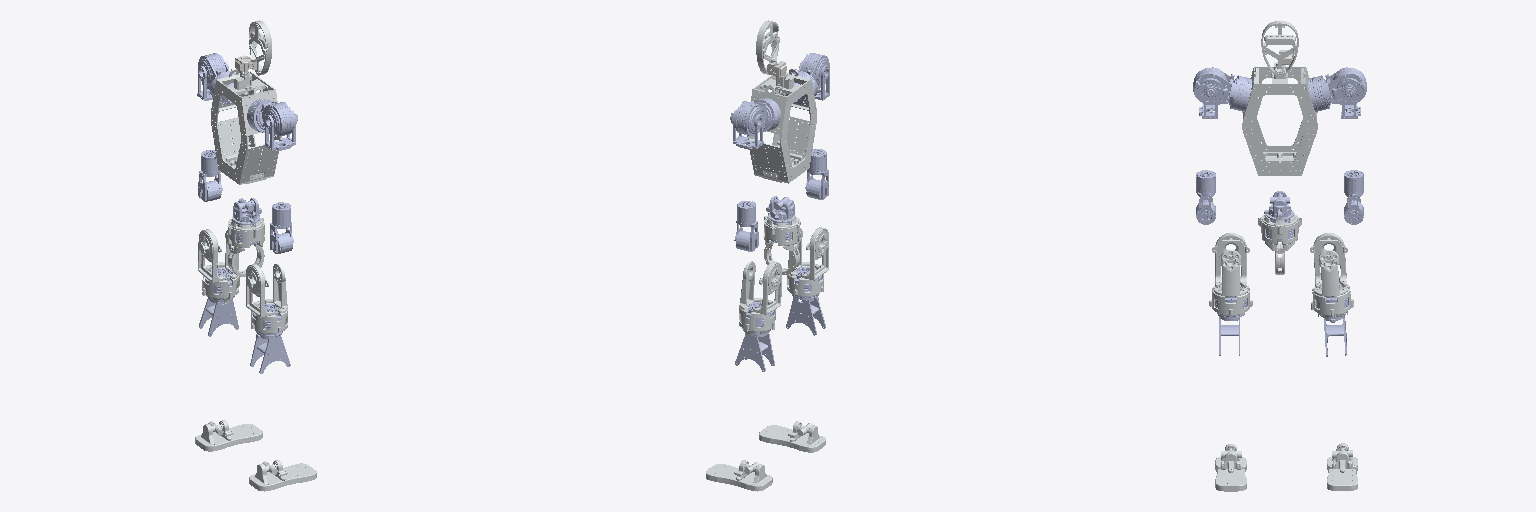
--- Facts derived from the render (not from the file) ---
The picture shows the robot from 3 angles, left to right: view 1: azimuth 30°, elevation 25°; view 2: azimuth 150°, elevation 25°; view 3: azimuth 270°, elevation 25°; orthographic projection.
Model humanoid_pkg with 32 links and 31 joints (24 revolute, 7 fixed), rooted at base_link, posed all joints at 0.
Links seen in each view (by area): view 1: chest_Link, right_hip_pitch_Link, left_hip_pitch_Link, left_foot_Link, right_foot_Link, right_shoulder_roll_Link, right_hip_yaw_Link, base_link, left_hip_yaw_Link, right_wrist_yaw_Link, left_wrist_yaw_Link, head_Link (+3 smaller); view 2: chest_Link, left_hip_pitch_Link, right_hip_pitch_Link, right_foot_Link, left_foot_Link, base_link, left_shoulder_roll_Link, right_hip_yaw_Link, left_hip_yaw_Link, left_wrist_yaw_Link, right_wrist_yaw_Link, right_shoulder_roll_Link (+3 smaller); view 3: chest_Link, left_hip_pitch_Link, right_hip_pitch_Link, right_foot_Link, left_foot_Link, base_link, left_shoulder_roll_Link, right_shoulder_roll_Link, left_wrist_yaw_Link, right_wrist_yaw_Link, right_shoulder_pitch_Link, left_shoulder_pitch_Link (+4 smaller).
Boxes of the visible links, x1,y1,x2,y2 form: chest_Link: (211,69,281,184); right_hip_pitch_Link: (246,264,287,333); left_hip_pitch_Link: (198,229,239,302); left_foot_Link: (195,420,262,451); right_foot_Link: (249,460,316,491); right_shoulder_roll_Link: (265,102,297,150); right_hip_yaw_Link: (250,304,290,373); base_link: (228,214,264,276); left_hip_yaw_Link: (199,268,238,336); right_wrist_yaw_Link: (270,202,293,253); left_wrist_yaw_Link: (198,150,222,201); head_Link: (248,20,271,75); chest_Link: (747,69,816,183); left_hip_pitch_Link: (739,261,781,335); right_hip_pitch_Link: (787,227,828,295); right_foot_Link: (759,421,825,452); left_foot_Link: (706,460,772,491); base_link: (764,212,800,274); left_shoulder_roll_Link: (730,101,763,149); right_hip_yaw_Link: (786,267,825,335); left_hip_yaw_Link: (735,302,774,371); left_wrist_yaw_Link: (734,201,758,251); right_wrist_yaw_Link: (805,149,828,199); right_shoulder_roll_Link: (799,53,829,100); chest_Link: (1242,67,1317,175); left_hip_pitch_Link: (1310,233,1353,317); right_hip_pitch_Link: (1209,233,1252,314); right_foot_Link: (1215,444,1246,491); left_foot_Link: (1327,443,1357,490); base_link: (1258,213,1301,274); left_shoulder_roll_Link: (1332,68,1366,118); right_shoulder_roll_Link: (1193,68,1227,118); left_wrist_yaw_Link: (1344,170,1363,224); right_wrist_yaw_Link: (1196,170,1215,224); right_shoulder_pitch_Link: (1203,67,1251,111); left_shoulder_pitch_Link: (1308,67,1356,111).
Size in the robot's own frame: 0.2068 by 0.4953 by 1.44 metres.
Meshes: 32 distinct files referenced, 19 mesh visuals loaded (19 binary STL); not drawn: 13 (reference not matched to a file when rendering).

URDF robot description (humanoid_pkg):
<?xml version="1.0" encoding="utf-8"?>
<!-- This URDF was automatically created by SolidWorks to URDF Exporter! Originally created by Stephen Brawner ([email redacted]) 
     Commit Version: 1.6.0-4-g7f85cfe  Build Version: 1.6.7995.38578
     For more information, please see http://wiki.ros.org/sw_urdf_exporter -->
<robot
  name="humanoid_pkg">
  <link
    name="base_link">
    <inertial>
      <origin
        xyz="-0.002616 -0.0053305 0.076594"
        rpy="0 0 0" />
      <mass
        value="0.54058" />
      <inertia
        ixx="0.00078596"
        ixy="8.0295E-09"
        ixz="4.0436E-12"
        iyy="0.0011449"
        iyz="-7.5045E-13"
        izz="0.0011059" />
    </inertial>
    <visual>
      <origin
        xyz="0 0 0"
        rpy="0 0 0" />
      <geometry>
        <mesh
          filename="package://humanoid_pkg/meshes/base_link.STL" />
      </geometry>
      <material
        name="">
        <color
          rgba="0.89804 0.91765 0.92941 1" />
      </material>
    </visual>
    <collision>
      <origin
        xyz="0 0 0"
        rpy="0 0 0" />
      <geometry>
        <mesh
          filename="package://humanoid_pkg/meshes/base_link.STL" />
      </geometry>
    </collision>
  </link>
  <link
    name="torso_Link">
    <inertial>
      <origin
        xyz="0.00062749 -0.00020921 0.02276"
        rpy="0 0 0" />
      <mass
        value="1.1981" />
      <inertia
        ixx="0.00051983"
        ixy="5.0679E-10"
        ixz="3.3744E-06"
        iyy="0.0005022"
        iyz="2.8579E-07"
        izz="0.0007539" />
    </inertial>
    <visual>
      <origin
        xyz="0 0 0"
        rpy="0 0 0" />
      <geometry>
        <mesh
          filename="package://humanoid_pkg/meshes/torso_Link.STL" />
      </geometry>
      <material
        name="">
        <color
          rgba="0.79216 0.81961 0.93333 1" />
      </material>
    </visual>
    <collision>
      <origin
        xyz="0 0 0"
        rpy="0 0 0" />
      <geometry>
        <mesh
          filename="package://humanoid_pkg/meshes/torso_Link.STL" />
      </geometry>
    </collision>
  </link>
  <joint
    name="torso_joint"
    type="revolute">
    <origin
      xyz="-0.00261604034721234 -0.00533051126563723 0.134475935268531"
      rpy="0 0 0" />
    <parent
      link="base_link" />
    <child
      link="torso_Link" />
    <axis
      xyz="0 0 1" />
    <limit
      lower="0"
      upper="0"
      effort="0"
      velocity="0" />
  </joint>
  <link
    name="waist_Link">
    <inertial>
      <origin
        xyz="0.0048073 0.0033257 -0.0040705"
        rpy="0 0 0" />
      <mass
        value="1.0735" />
      <inertia
        ixx="0.0010662"
        ixy="-3.8707E-07"
        ixz="-3.9244E-07"
        iyy="0.0011999"
        iyz="-3.7642E-08"
        izz="0.00058977" />
    </inertial>
    <visual>
      <origin
        xyz="0 0 0"
        rpy="0 0 0" />
      <geometry>
        <mesh
          filename="package://humanoid_pkg/meshes/waist_Link.STL" />
      </geometry>
      <material
        name="">
        <color
          rgba="0.89804 0.91765 0.92941 1" />
      </material>
    </visual>
    <collision>
      <origin
        xyz="0 0 0"
        rpy="0 0 0" />
      <geometry>
        <mesh
          filename="package://humanoid_pkg/meshes/waist_Link.STL" />
      </geometry>
    </collision>
  </link>
  <joint
    name="waist_joint"
    type="revolute">
    <origin
      xyz="0 -0.00499999999999296 0.1177"
      rpy="0 0 0" />
    <parent
      link="torso_Link" />
    <child
      link="waist_Link" />
    <axis
      xyz="0 -1 0" />
    <limit
      lower="0"
      upper="0"
      effort="0"
      velocity="0" />
  </joint>
  <link
    name="chest_Link">
    <inertial>
      <origin
        xyz="-0.059002 -4.6806E-06 -0.032819"
        rpy="0 0 0" />
      <mass
        value="1.7205" />
      <inertia
        ixx="0.0090608"
        ixy="-1.7864E-07"
        ixz="-5.4617E-07"
        iyy="0.0073219"
        iyz="6.0203E-08"
        izz="0.0046362" />
    </inertial>
    <visual>
      <origin
        xyz="0 0 0"
        rpy="0 0 0" />
      <geometry>
        <mesh
          filename="package://humanoid_pkg/meshes/chest_Link.STL" />
      </geometry>
      <material
        name="">
        <color
          rgba="0.89804 0.91765 0.92941 1" />
      </material>
    </visual>
    <collision>
      <origin
        xyz="0 0 0"
        rpy="0 0 0" />
      <geometry>
        <mesh
          filename="package://humanoid_pkg/meshes/chest_Link.STL" />
      </geometry>
    </collision>
  </link>
  <joint
    name="chest_joint"
    type="fixed">
    <origin
      xyz="0.0589999999999597 0.00499879796810167 0.198863551720086"
      rpy="0 0 0" />
    <parent
      link="waist_Link" />
    <child
      link="chest_Link" />
    <axis
      xyz="0 0 0" />
  </joint>
  <link
    name="left_shoulder_pitch_Link">
    <inertial>
      <origin
        xyz="0.00031467 -0.0041125 -0.0009434"
        rpy="0 0 0" />
      <mass
        value="0.55787" />
      <inertia
        ixx="0.00046536"
        ixy="-2.4876E-08"
        ixz="2.6512E-07"
        iyy="0.00054598"
        iyz="6.1625E-05"
        izz="0.00033254" />
    </inertial>
    <visual>
      <origin
        xyz="0 0 0"
        rpy="0 0 0" />
      <geometry>
        <mesh
          filename="package://humanoid_pkg/meshes/left_shoulder_pitch_Link.STL" />
      </geometry>
      <material
        name="">
        <color
          rgba="0.79216 0.81961 0.93333 1" />
      </material>
    </visual>
    <collision>
      <origin
        xyz="0 0 0"
        rpy="0 0 0" />
      <geometry>
        <mesh
          filename="package://humanoid_pkg/meshes/left_shoulder_pitch_Link.STL" />
      </geometry>
    </collision>
  </link>
  <joint
    name="left_shoulder_pitch_joint"
    type="revolute">
    <origin
      xyz="-0.0589999999999941 0.133920443430172 0.0867417663212657"
      rpy="0 0 0" />
    <parent
      link="chest_Link" />
    <child
      link="left_shoulder_pitch_Link" />
    <axis
      xyz="0 0.965925826289068 0.258819045102522" />
    <limit
      lower="0"
      upper="0"
      effort="0"
      velocity="0" />
  </joint>
  <link
    name="left_shoulder_roll_Link">
    <inertial>
      <origin
        xyz="-0.019316 0.00045538 -0.0075538"
        rpy="0 0 0" />
      <mass
        value="0.48965" />
      <inertia
        ixx="0.00052874"
        ixy="1.5282E-06"
        ixz="2.6093E-07"
        iyy="0.00033494"
        iyz="-1.2208E-05"
        izz="0.00033875" />
    </inertial>
    <visual>
      <origin
        xyz="0 0 0"
        rpy="0 0 0" />
      <geometry>
        <mesh
          filename="package://humanoid_pkg/meshes/left_shoulder_roll_Link.STL" />
      </geometry>
      <material
        name="">
        <color
          rgba="0.79216 0.81961 0.93333 1" />
      </material>
    </visual>
    <collision>
      <origin
        xyz="0 0 0"
        rpy="0 0 0" />
      <geometry>
        <mesh
          filename="package://humanoid_pkg/meshes/left_shoulder_roll_Link.STL" />
      </geometry>
    </collision>
  </link>
  <joint
    name="left_shoulder_roll_joint"
    type="revolute">
    <origin
      xyz="0.0196500000000192 0.0647170303613817 0.0173408760218703"
      rpy="0 0 0" />
    <parent
      link="left_shoulder_pitch_Link" />
    <child
      link="left_shoulder_roll_Link" />
    <axis
      xyz="-1 0 0" />
    <limit
      lower="0"
      upper="0"
      effort="0"
      velocity="0" />
  </joint>
  <link
    name="left_elbow_yaw_Link">
    <inertial>
      <origin
        xyz="3.389E-05 -0.0037073 0.00016863"
        rpy="0 0 0" />
      <mass
        value="0.24344" />
      <inertia
        ixx="9.1765E-05"
        ixy="-1.8509E-08"
        ixz="-5.5968E-08"
        iyy="9.535E-05"
        iyz="-4.6348E-07"
        izz="8.437E-05" />
    </inertial>
    <visual>
      <origin
        xyz="0 0 0"
        rpy="0 0 0" />
      <geometry>
        <mesh
          filename="package://humanoid_pkg/meshes/left_elbow_yaw_Link.STL" />
      </geometry>
      <material
        name="">
        <color
          rgba="0.79216 0.81961 0.93333 1" />
      </material>
    </visual>
    <collision>
      <origin
        xyz="0 0 0"
        rpy="0 0 0" />
      <geometry>
        <mesh
          filename="package://humanoid_pkg/meshes/left_elbow_yaw_Link.STL" />
      </geometry>
    </collision>
  </link>
  <joint
    name="left_elbow_yaw_joint"
    type="revolute">
    <origin
      xyz="-0.0196500000008165 0.0126821332100065 -0.140580365488154"
      rpy="0 0 -0.000325211137676522" />
    <parent
      link="left_shoulder_roll_Link" />
    <child
      link="left_elbow_yaw_Link" />
    <axis
      xyz="0 0 1" />
    <limit
      lower="0"
      upper="0"
      effort="0"
      velocity="0" />
  </joint>
  <link
    name="left_elbow_forearm_yaw_Link">
    <inertial>
      <origin
        xyz="4.0886E-05 -0.026352 -0.013654"
        rpy="0 0 0" />
      <mass
        value="0.20469" />
      <inertia
        ixx="8.4119E-05"
        ixy="5.7255E-08"
        ixz="-1.8341E-08"
        iyy="8.0815E-05"
        iyz="1.478E-07"
        izz="6.5937E-05" />
    </inertial>
    <visual>
      <origin
        xyz="0 0 0"
        rpy="0 0 0" />
      <geometry>
        <mesh
          filename="package://humanoid_pkg/meshes/left_elbow_forearm_yaw_Link.STL" />
      </geometry>
      <material
        name="">
        <color
          rgba="0.79216 0.81961 0.93333 1" />
      </material>
    </visual>
    <collision>
      <origin
        xyz="0 0 0"
        rpy="0 0 0" />
      <geometry>
        <mesh
          filename="package://humanoid_pkg/meshes/left_elbow_forearm_yaw_Link.STL" />
      </geometry>
    </collision>
  </link>
  <joint
    name="left_elbow_forearm_yaw_joint"
    type="revolute">
    <origin
      xyz="0 0.026500000000004 -0.0682500000000194"
      rpy="0 0 0" />
    <parent
      link="left_elbow_yaw_Link" />
    <child
      link="left_elbow_forearm_yaw_Link" />
    <axis
      xyz="0 -1 0" />
    <limit
      lower="0"
      upper="0"
      effort="0"
      velocity="0" />
  </joint>
  <link
    name="left_wrist_yaw_Link">
    <inertial>
      <origin
        xyz="-0.0022153 -0.00030373 -0.017432"
        rpy="0 0 0" />
      <mass
        value="0.3165" />
      <inertia
        ixx="0.00013143"
        ixy="3.0794E-08"
        ixz="4.312E-07"
        iyy="0.0001122"
        iyz="-3.0606E-08"
        izz="0.00010375" />
    </inertial>
    <visual>
      <origin
        xyz="0 0 0"
        rpy="0 0 0" />
      <geometry>
        <mesh
          filename="package://humanoid_pkg/meshes/left_wrist_yaw_Link.STL" />
      </geometry>
      <material
        name="">
        <color
          rgba="0.79216 0.81961 0.93333 1" />
      </material>
    </visual>
    <collision>
      <origin
        xyz="0 0 0"
        rpy="0 0 0" />
      <geometry>
        <mesh
          filename="package://humanoid_pkg/meshes/left_wrist_yaw_Link.STL" />
      </geometry>
    </collision>
  </link>
  <joint
    name="left_wrist_yaw_joint"
    type="revolute">
    <origin
      xyz="2.72119635786744E-05 -0.0261962529456502 -0.12349999999999"
      rpy="0 0 0" />
    <parent
      link="left_elbow_forearm_yaw_Link" />
    <child
      link="left_wrist_yaw_Link" />
    <axis
      xyz="0 0 -1" />
    <limit
      lower="0"
      upper="0"
      effort="0"
      velocity="0" />
  </joint>
  <link
    name="right_shoulder_pitch_Link">
    <inertial>
      <origin
        xyz="0.00031467 0.0086652 -0.0021119"
        rpy="0 0 0" />
      <mass
        value="0.55787" />
      <inertia
        ixx="0.00046536"
        ixy="2.4609E-08"
        ixz="2.6413E-07"
        iyy="0.00054599"
        iyz="-6.1605E-05"
        izz="0.00033253" />
    </inertial>
    <visual>
      <origin
        xyz="0 0 0"
        rpy="0 0 0" />
      <geometry>
        <mesh
          filename="package://humanoid_pkg/meshes/right_shoulder_pitch_Link.STL" />
      </geometry>
      <material
        name="">
        <color
          rgba="0.79216 0.81961 0.93333 1" />
      </material>
    </visual>
    <collision>
      <origin
        xyz="0 0 0"
        rpy="0 0 0" />
      <geometry>
        <mesh
          filename="package://humanoid_pkg/meshes/right_shoulder_pitch_Link.STL" />
      </geometry>
    </collision>
  </link>
  <joint
    name="right_shoulder_pitch_joint"
    type="revolute">
    <origin
      xyz="-0.0589999999999747 -0.138457890749933 0.0879582158332528"
      rpy="0 0 0" />
    <parent
      link="chest_Link" />
    <child
      link="right_shoulder_pitch_Link" />
    <axis
      xyz="0 -0.965925826289067 0.258819045102526" />
    <limit
      lower="0"
      upper="0"
      effort="0"
      velocity="0" />
  </joint>
  <link
    name="right_shoulder_roll_Link">
    <inertial>
      <origin
        xyz="-0.019338 -0.00043324 -0.007383"
        rpy="0 0 0" />
      <mass
        value="0.48888" />
      <inertia
        ixx="0.00052841"
        ixy="-1.5939E-06"
        ixz="2.8547E-07"
        iyy="0.00033462"
        iyz="1.2209E-05"
        izz="0.00033811" />
    </inertial>
    <visual>
      <origin
        xyz="0 0 0"
        rpy="0 0 0" />
      <geometry>
        <mesh
          filename="package://humanoid_pkg/meshes/right_shoulder_roll_Link.STL" />
      </geometry>
      <material
        name="">
        <color
          rgba="0.79216 0.81961 0.93333 1" />
      </material>
    </visual>
    <collision>
      <origin
        xyz="0 0 0"
        rpy="0 0 0" />
      <geometry>
        <mesh
          filename="package://humanoid_pkg/meshes/right_shoulder_roll_Link.STL" />
      </geometry>
    </collision>
  </link>
  <joint
    name="right_shoulder_roll_joint"
    type="revolute">
    <origin
      xyz="0.0196499999999965 -0.0601771789778188 0.0161244265098969"
      rpy="0 0 0" />
    <parent
      link="right_shoulder_pitch_Link" />
    <child
      link="right_shoulder_roll_Link" />
    <axis
      xyz="-1 0 0" />
    <limit
      lower="0"
      upper="0"
      effort="0"
      velocity="0" />
  </joint>
  <link
    name="right_elbow_yaw_Link">
    <inertial>
      <origin
        xyz="-4.3563E-07 0.0037417 0.00016863"
        rpy="0 0 0" />
      <mass
        value="0.24344" />
      <inertia
        ixx="9.1717E-05"
        ixy="1.8529E-08"
        ixz="2.6213E-09"
        iyy="9.5398E-05"
        iyz="4.048E-07"
        izz="8.437E-05" />
    </inertial>
    <visual>
      <origin
        xyz="0 0 0"
        rpy="0 0 0" />
      <geometry>
        <mesh
          filename="package://humanoid_pkg/meshes/right_elbow_yaw_Link.STL" />
      </geometry>
      <material
        name="">
        <color
          rgba="0.79216 0.81961 0.93333 1" />
      </material>
    </visual>
    <collision>
      <origin
        xyz="0 0 0"
        rpy="0 0 0" />
      <geometry>
        <mesh
          filename="package://humanoid_pkg/meshes/right_elbow_yaw_Link.STL" />
      </geometry>
    </collision>
  </link>
  <joint
    name="right_elbow_yaw_joint"
    type="revolute">
    <origin
      xyz="-0.0196499999999985 -0.0126821332108248 -0.140580365488174"
      rpy="0 0 0" />
    <parent
      link="right_shoulder_roll_Link" />
    <child
      link="right_elbow_yaw_Link" />
    <axis
      xyz="0 0 1" />
    <limit
      lower="0"
      upper="0"
      effort="0"
      velocity="0" />
  </joint>
  <link
    name="right_elbow_forearm_yaw_Link">
    <inertial>
      <origin
        xyz="-0.00034522 -0.028398 -0.013635"
        rpy="0 0 0" />
      <mass
        value="0.20469" />
      <inertia
        ixx="8.4119E-05"
        ixy="5.7255E-08"
        ixz="1.8341E-08"
        iyy="8.0815E-05"
        iyz="-1.478E-07"
        izz="6.5937E-05" />
    </inertial>
    <visual>
      <origin
        xyz="0 0 0"
        rpy="0 0 0" />
      <geometry>
        <mesh
          filename="package://humanoid_pkg/meshes/right_elbow_forearm_yaw_Link.STL" />
      </geometry>
      <material
        name="">
        <color
          rgba="0.79216 0.81961 0.93333 1" />
      </material>
    </visual>
    <collision>
      <origin
        xyz="0 0 0"
        rpy="0 0 0" />
      <geometry>
        <mesh
          filename="package://humanoid_pkg/meshes/right_elbow_forearm_yaw_Link.STL" />
      </geometry>
    </collision>
  </link>
  <joint
    name="right_elbow_forearm_yaw_joint"
    type="revolute">
    <origin
      xyz="0.000304330674491246 0.0282500000008096 -0.068269636815096"
      rpy="0 0 0" />
    <parent
      link="right_elbow_yaw_Link" />
    <child
      link="right_elbow_forearm_yaw_Link" />
    <axis
      xyz="0 1 0" />
    <limit
      lower="0"
      upper="0"
      effort="0"
      velocity="0" />
  </joint>
  <link
    name="right_wrist_yaw_Link">
    <inertial>
      <origin
        xyz="-0.0019393 0.00024629 -0.017432"
        rpy="0 0 0" />
      <mass
        value="0.3165" />
      <inertia
        ixx="0.00013144"
        ixy="6.582E-08"
        ixz="4.7674E-07"
        iyy="0.00011219"
        iyz="6.2895E-08"
        izz="0.00010375" />
    </inertial>
    <visual>
      <origin
        xyz="0 0 0"
        rpy="0 0 0" />
      <geometry>
        <mesh
          filename="package://humanoid_pkg/meshes/right_wrist_yaw_Link.STL" />
      </geometry>
      <material
        name="">
        <color
          rgba="0.79216 0.81961 0.93333 1" />
      </material>
    </visual>
    <collision>
      <origin
        xyz="0 0 0"
        rpy="0 0 0" />
      <geometry>
        <mesh
          filename="package://humanoid_pkg/meshes/right_wrist_yaw_Link.STL" />
      </geometry>
    </collision>
  </link>
  <joint
    name="right_wrist_yaw_joint"
    type="revolute">
    <origin
      xyz="-0.000533410283256361 -0.0284513089585393 -0.123480363184904"
      rpy="0 0 0" />
    <parent
      link="right_elbow_forearm_yaw_Link" />
    <child
      link="right_wrist_yaw_Link" />
    <axis
      xyz="0 0 -1" />
    <limit
      lower="0"
      upper="0"
      effort="0"
      velocity="0" />
  </joint>
  <link
    name="neck_Link">
    <inertial>
      <origin
        xyz="-0.0065711 1.1221E-07 -0.024709"
        rpy="0 0 0" />
      <mass
        value="0.057826" />
      <inertia
        ixx="1.273E-05"
        ixy="5.486E-11"
        ixz="-2.4607E-07"
        iyy="1.3612E-05"
        iyz="-4.3063E-11"
        izz="1.4071E-05" />
    </inertial>
    <visual>
      <origin
        xyz="0 0 0"
        rpy="0 0 0" />
      <geometry>
        <mesh
          filename="package://humanoid_pkg/meshes/neck_Link.STL" />
      </geometry>
      <material
        name="">
        <color
          rgba="0.89804 0.91765 0.92941 1" />
      </material>
    </visual>
    <collision>
      <origin
        xyz="0 0 0"
        rpy="0 0 0" />
      <geometry>
        <mesh
          filename="package://humanoid_pkg/meshes/neck_Link.STL" />
      </geometry>
    </collision>
  </link>
  <joint
    name="neck_joint"
    type="fixed">
    <origin
      xyz="-0.0589999999999757 0 0.172550670854567"
      rpy="0 0 0" />
    <parent
      link="chest_Link" />
    <child
      link="neck_Link" />
    <axis
      xyz="0 0 0" />
  </joint>
  <link
    name="neck_yaw_Link">
    <inertial>
      <origin
        xyz="0.0026021 0.017715 0.019315"
        rpy="0 0 0" />
      <mass
        value="0.084323" />
      <inertia
        ixx="2.4885E-05"
        ixy="1.1417E-06"
        ixz="1.0184E-07"
        iyy="2.2161E-05"
        iyz="-3.6443E-06"
        izz="1.932E-05" />
    </inertial>
    <visual>
      <origin
        xyz="0 0 0"
        rpy="0 0 0" />
      <geometry>
        <mesh
          filename="package://humanoid_pkg/meshes/neck_yaw_Link.STL" />
      </geometry>
      <material
        name="">
        <color
          rgba="0.89804 0.89804 0.89804 1" />
      </material>
    </visual>
    <collision>
      <origin
        xyz="0 0 0"
        rpy="0 0 0" />
      <geometry>
        <mesh
          filename="package://humanoid_pkg/meshes/neck_yaw_Link.STL" />
      </geometry>
    </collision>
  </link>
  <joint
    name="neck_yaw_joint"
    type="revolute">
    <origin
      xyz="0 0 0"
      rpy="0 0 0" />
    <parent
      link="neck_Link" />
    <child
      link="neck_yaw_Link" />
    <axis
      xyz="0 0 1" />
    <limit
      lower="0"
      upper="0"
      effort="0"
      velocity="0" />
  </joint>
  <link
    name="head_Link">
    <inertial>
      <origin
        xyz="0.027551 -0.0041209 0.046161"
        rpy="0 0 0" />
      <mass
        value="0.18871" />
      <inertia
        ixx="0.00064097"
        ixy="4.7808E-07"
        ixz="-1.3992E-06"
        iyy="0.00045607"
        iyz="-1.8574E-06"
        izz="0.00019729" />
    </inertial>
    <visual>
      <origin
        xyz="0 0 0"
        rpy="0 0 0" />
      <geometry>
        <mesh
          filename="package://humanoid_pkg/meshes/head_Link.STL" />
      </geometry>
      <material
        name="">
        <color
          rgba="0.89804 0.91765 0.92941 1" />
      </material>
    </visual>
    <collision>
      <origin
        xyz="0 0 0"
        rpy="0 0 0" />
      <geometry>
        <mesh
          filename="package://humanoid_pkg/meshes/head_Link.STL" />
      </geometry>
    </collision>
  </link>
  <joint
    name="head_joint"
    type="revolute">
    <origin
      xyz="0.0176150000000058 0.00449999999987008 0.0230050000000284"
      rpy="0 0 0" />
    <parent
      link="neck_yaw_Link" />
    <child
      link="head_Link" />
    <axis
      xyz="0 1 0" />
    <limit
      lower="0"
      upper="0"
      effort="0"
      velocity="0" />
  </joint>
  <link
    name="camera_Link">
    <inertial>
      <origin
        xyz="-0.012444 1.1266E-05 -0.00013611"
        rpy="0 0 0" />
      <mass
        value="0.10791" />
      <inertia
        ixx="7.1255E-05"
        ixy="-1.7847E-08"
        ixz="4.9298E-08"
        iyy="7.71E-06"
        iyz="2.4825E-10"
        izz="7.0257E-05" />
    </inertial>
    <visual>
      <origin
        xyz="0 0 0"
        rpy="0 0 0" />
      <geometry>
        <mesh
          filename="package://humanoid_pkg/meshes/camera_Link.STL" />
      </geometry>
      <material
        name="">
        <color
          rgba="0.89804 0.91765 0.92941 1" />
      </material>
    </visual>
    <collision>
      <origin
        xyz="0 0 0"
        rpy="0 0 0" />
      <geometry>
        <mesh
          filename="package://humanoid_pkg/meshes/camera_Link.STL" />
      </geometry>
    </collision>
  </link>
  <joint
    name="camera_joint"
    type="fixed">
    <origin
      xyz="0.0453850000000015 -0.00450000000000009 0.0774061362008152"
      rpy="0 0 0" />
    <parent
      link="head_Link" />
    <child
      link="camera_Link" />
    <axis
      xyz="0 0 0" />
  </joint>
  <link
    name="right_hip_roll_Link">
    <inertial>
      <origin
        xyz="-0.027888 0.04083 0.00056004"
        rpy="0 0 0" />
      <mass
        value="1.5469" />
      <inertia
        ixx="0.0028797"
        ixy="-5.658E-05"
        ixz="1.1722E-05"
        iyy="0.00207"
        iyz="2.0467E-05"
        izz="0.0019812" />
    </inertial>
    <visual>
      <origin
        xyz="0 0 0"
        rpy="0 0 0" />
      <geometry>
        <mesh
          filename="package://humanoid_pkg/meshes/right_hip_roll_Link.STL" />
      </geometry>
      <material
        name="">
        <color
          rgba="0.79216 0.81961 0.93333 1" />
      </material>
    </visual>
    <collision>
      <origin
        xyz="0 0 0"
        rpy="0 0 0" />
      <geometry>
        <mesh
          filename="package://humanoid_pkg/meshes/right_hip_roll_Link.STL" />
      </geometry>
    </collision>
  </link>
  <joint
    name="right_hip_roll_joint"
    type="revolute">
    <origin
      xyz="0.0175839596527876 -0.14533051126563 0.0221759352685313"
      rpy="0 0 0" />
    <parent
      link="base_link" />
    <child
      link="right_hip_roll_Link" />
    <axis
      xyz="0 1 0" />
    <limit
      lower="0"
      upper="0"
      effort="0"
      velocity="0" />
  </joint>
  <link
    name="right_hip_pitch_Link">
    <inertial>
      <origin
        xyz="-0.032145 -3.7396E-06 -0.063538"
        rpy="0 0 0" />
      <mass
        value="0.7444" />
      <inertia
        ixx="0.0015527"
        ixy="1.5592E-08"
        ixz="4.0115E-05"
        iyy="0.001194"
        iyz="9.2713E-10"
        izz="0.0009379" />
    </inertial>
    <visual>
      <origin
        xyz="0 0 0"
        rpy="0 0 0" />
      <geometry>
        <mesh
          filename="package://humanoid_pkg/meshes/right_hip_pitch_Link.STL" />
      </geometry>
      <material
        name="">
        <color
          rgba="0.89804 0.91765 0.92941 1" />
      </material>
    </visual>
    <collision>
      <origin
        xyz="0 0 0"
        rpy="0 0 0" />
      <geometry>
        <mesh
          filename="package://humanoid_pkg/meshes/right_hip_pitch_Link.STL" />
      </geometry>
    </collision>
  </link>
  <joint
    name="right_hip_pitch_ joint"
    type="revolute">
    <origin
      xyz="0 0 0"
      rpy="0 0 0" />
    <parent
      link="right_hip_roll_Link" />
    <child
      link="right_hip_pitch_Link" />
    <axis
      xyz="-1 0 0" />
    <limit
      lower="0"
      upper="0"
      effort="0"
      velocity="0" />
  </joint>
  <link
    name="right_hip_yaw_Link">
    <inertial>
      <origin
        xyz="-2.7827E-05 -0.0016262 -0.02388"
        rpy="0 0 0" />
      <mass
        value="1.0856" />
      <inertia
        ixx="0.00071265"
        ixy="1.0046E-07"
        ixz="-1.2697E-07"
        iyy="0.0010508"
        iyz="-1.2277E-06"
        izz="0.00085679" />
    </inertial>
    <visual>
      <origin
        xyz="0 0 0"
        rpy="0 0 0" />
      <geometry>
        <mesh
          filename="package://humanoid_pkg/meshes/right_hip_yaw_Link.STL" />
      </geometry>
      <material
        name="">
        <color
          rgba="0.79216 0.81961 0.93333 1" />
      </material>
    </visual>
    <collision>
      <origin
        xyz="0 0 0"
        rpy="0 0 0" />
      <geometry>
        <mesh
          filename="package://humanoid_pkg/meshes/right_hip_yaw_Link.STL" />
      </geometry>
    </collision>
  </link>
  <joint
    name="right_hip_yaw_joint"
    type="revolute">
    <origin
      xyz="-0.0202000000000037 0 -0.1757"
      rpy="0 0 0" />
    <parent
      link="right_hip_pitch_Link" />
    <child
      link="right_hip_yaw_Link" />
    <axis
      xyz="0 0 -1" />
    <limit
      lower="0"
      upper="0"
      effort="0"
      velocity="0" />
  </joint>
  <link
    name="right_knee_Link">
    <inertial>
      <origin
        xyz="-0.00014239 0.027532 -0.091601"
        rpy="0 0 0" />
      <mass
        value="1.5561" />
      <inertia
        ixx="0.0079264"
        ixy="1.1756E-07"
        ixz="1.3859E-07"
        iyy="0.0078415"
        iyz="0.0005933"
        izz="0.0012684" />
    </inertial>
    <visual>
      <origin
        xyz="0 0 0"
        rpy="0 0 0" />
      <geometry>
        <mesh
          filename="package://humanoid_pkg/meshes/right_knee_Link.STL" />
      </geometry>
      <material
        name="">
        <color
          rgba="0.79216 0.81961 0.93333 1" />
      </material>
    </visual>
    <collision>
      <origin
        xyz="0 0 0"
        rpy="0 0 0" />
      <geometry>
        <mesh
          filename="package://humanoid_pkg/meshes/right_knee_Link.STL" />
      </geometry>
    </collision>
  </link>
  <joint
    name="right_knee_joint"
    type="revolute">
    <origin
      xyz="0 -0.0247000000000758 -0.134300000000004"
      rpy="0 0 0" />
    <parent
      link="right_hip_yaw_Link" />
    <child
      link="right_knee_Link" />
    <axis
      xyz="0 1 0" />
    <limit
      lower="0"
      upper="0"
      effort="0"
      velocity="0" />
  </joint>
  <link
    name="right_ankle_upper_Link">
    <inertial>
      <origin
        xyz="-0.0096451 0.0080178 -0.022594"
        rpy="0 0 0" />
      <mass
        value="0.23217" />
      <inertia
        ixx="0.00017223"
        ixy="-4.2567E-10"
        ixz="-2.6524E-09"
        iyy="0.00015319"
        iyz="-5.3556E-06"
        izz="6.3191E-05" />
    </inertial>
    <visual>
      <origin
        xyz="0 0 0"
        rpy="0 0 0" />
      <geometry>
        <mesh
          filename="package://humanoid_pkg/meshes/right_ankle_upper_Link.STL" />
      </geometry>
      <material
        name="">
        <color
          rgba="0.64706 0.61961 0.58824 1" />
      </material>
    </visual>
    <collision>
      <origin
        xyz="0 0 0"
        rpy="0 0 0" />
      <geometry>
        <mesh
          filename="package://humanoid_pkg/meshes/right_ankle_upper_Link.STL" />
      </geometry>
    </collision>
  </link>
  <joint
    name="right_ankle_upper_joint"
    type="fixed">
    <origin
      xyz="0.02975 0.0246999999992695 -0.104999999999998"
      rpy="0 0 0" />
    <parent
      link="right_knee_Link" />
    <child
      link="right_ankle_upper_Link" />
    <axis
      xyz="0 -1 0" />
    <limit
      lower="0"
      upper="0"
      effort="0"
      velocity="0" />
  </joint>
  <link
    name="right_foot_Link">
    <inertial>
      <origin
        xyz="0.0057978 -5.4386E-10 -0.026004"
        rpy="0 0 0" />
      <mass
        value="0.98973" />
      <inertia
        ixx="0.00050114"
        ixy="2.8848E-11"
        ixz="8.7593E-05"
        iyy="0.0023788"
        iyz="-3.5941E-11"
        izz="0.002753" />
    </inertial>
    <visual>
      <origin
        xyz="0 0 0"
        rpy="0 0 0" />
      <geometry>
        <mesh
          filename="package://humanoid_pkg/meshes/right_foot_Link.STL" />
      </geometry>
      <material
        name="">
        <color
          rgba="0.89804 0.91765 0.92941 1" />
      </material>
    </visual>
    <collision>
      <origin
        xyz="0 0 0"
        rpy="0 0 0" />
      <geometry>
        <mesh
          filename="package://humanoid_pkg/meshes/right_foot_Link.STL" />
      </geometry>
    </collision>
  </link>
  <joint
    name="right_foot_joint"
    type="revolute">
    <origin
      xyz="0.0225 0.0247000000000844 -0.3185"
      rpy="0 0 0" />
    <parent
      link="right_knee_Link" />
    <child
      link="right_foot_Link" />
    <axis
      xyz="0 1 0" />
    <limit
      lower="0"
      upper="0"
      effort="0"
      velocity="0" />
  </joint>
  <link
    name="right_ankle_lower_Link">
    <inertial>
      <origin
        xyz="-0.011288 -0.0067146 -0.012411"
        rpy="0 0 0" />
      <mass
        value="0.2189" />
      <inertia
        ixx="0.00010192"
        ixy="5.8479E-08"
        ixz="5.7528E-08"
        iyy="8.2967E-05"
        iyz="1.9458E-06"
        izz="6.2866E-05" />
    </inertial>
    <visual>
      <origin
        xyz="0 0 0"
        rpy="0 0 0" />
      <geometry>
        <mesh
          filename="package://humanoid_pkg/meshes/right_ankle_lower_Link.STL" />
      </geometry>
      <material
        name="">
        <color
          rgba="0.79216 0.81961 0.93333 1" />
      </material>
    </visual>
    <collision>
      <origin
        xyz="0 0 0"
        rpy="0 0 0" />
      <geometry>
        <mesh
          filename="package://humanoid_pkg/meshes/right_ankle_lower_Link.STL" />
      </geometry>
    </collision>
  </link>
  <joint
    name="right_ankle_lower_joint"
    type="fixed">
    <origin
      xyz="0.02975 0.0247000000000751 -0.169500000000809"
      rpy="0 0 0" />
    <parent
      link="right_knee_Link" />
    <child
      link="right_ankle_lower_Link" />
    <axis
      xyz="0 0 0" />
  </joint>
  <link
    name="left_hip_roll_Link">
    <inertial>
      <origin
        xyz="-0.0076949 0.035164 -0.00056716"
        rpy="0 0 0" />
      <mass
        value="1.5469" />
      <inertia
        ixx="0.0028797"
        ixy="5.6863E-05"
        ixz="-1.1728E-05"
        iyy="0.00207"
        iyz="2.0647E-05"
        izz="0.0019812" />
    </inertial>
    <visual>
      <origin
        xyz="0 0 0"
        rpy="0 0 0" />
      <geometry>
        <mesh
          filename="package://humanoid_pkg/meshes/left_hip_roll_Link.STL" />
      </geometry>
      <material
        name="">
        <color
          rgba="0.79216 0.81961 0.93333 1" />
      </material>
    </visual>
    <collision>
      <origin
        xyz="0 0 0"
        rpy="0 0 0" />
      <geometry>
        <mesh
          filename="package://humanoid_pkg/meshes/left_hip_roll_Link.STL" />
      </geometry>
    </collision>
  </link>
  <joint
    name="left_hip_roll_joint"
    type="revolute">
    <origin
      xyz="-0.002616 0.058669 0.022176"
      rpy="0 0 -0.00032521" />
    <parent
      link="base_link" />
    <child
      link="left_hip_roll_Link" />
    <axis
      xyz="0.00032521 -1 0" />
    <limit
      lower="0"
      upper="0"
      effort="0"
      velocity="0" />
  </joint>
  <link
    name="left_hip_pitch_Link">
    <inertial>
      <origin
        xyz="-0.034577 0.0050593 -0.074824"
        rpy="0 0 0" />
      <mass
        value="0.84068" />
      <inertia
        ixx="0.0016535"
        ixy="-2.4768E-06"
        ixz="4.0037E-05"
        iyy="0.0012895"
        iyz="1.107E-05"
        izz="0.0011304" />
    </inertial>
    <visual>
      <origin
        xyz="0 0 0"
        rpy="0 0 0" />
      <geometry>
        <mesh
          filename="package://humanoid_pkg/meshes/left_hip_pitch_Link.STL" />
      </geometry>
      <material
        name="">
        <color
          rgba="0.89804 0.91765 0.92941 1" />
      </material>
    </visual>
    <collision>
      <origin
        xyz="0 0 0"
        rpy="0 0 0" />
      <geometry>
        <mesh
          filename="package://humanoid_pkg/meshes/left_hip_pitch_Link.STL" />
      </geometry>
    </collision>
  </link>
  <joint
    name="left_hip_pitch_joint"
    type="revolute">
    <origin
      xyz="0.0239754058878498 0.0756289609470872 -0.000417044567936287"
      rpy="0 0 0.000325211137678828" />
    <parent
      link="left_hip_roll_Link" />
    <child
      link="left_hip_pitch_Link" />
    <axis
      xyz="-1 0 0" />
    <limit
      lower="0"
      upper="0"
      effort="0"
      velocity="0" />
  </joint>
  <link
    name="left_hip_yaw_Link">
    <inertial>
      <origin
        xyz="5.3998E-05 0.0016007 -0.02388"
        rpy="0 0 0" />
      <mass
        value="1.0856" />
      <inertia
        ixx="0.00071265"
        ixy="1.0046E-07"
        ixz="1.4643E-07"
        iyy="0.0010508"
        iyz="1.2047E-06"
        izz="0.00085679" />
    </inertial>
    <visual>
      <origin
        xyz="0 0 0"
        rpy="0 0 0" />
      <geometry>
        <mesh
          filename="package://humanoid_pkg/meshes/left_hip_yaw_Link.STL" />
      </geometry>
      <material
        name="">
        <color
          rgba="0.79216 0.81961 0.93333 1" />
      </material>
    </visual>
    <collision>
      <origin
        xyz="0 0 0"
        rpy="0 0 0" />
      <geometry>
        <mesh
          filename="package://humanoid_pkg/meshes/left_hip_yaw_Link.STL" />
      </geometry>
    </collision>
  </link>
  <joint
    name="left_hip_yaw_joint"
    type="revolute">
    <origin
      xyz="-0.0240000000000196 0.0112950637310301 -0.174943515599112"
      rpy="0.0621699421431091 0 0" />
    <parent
      link="left_hip_pitch_Link" />
    <child
      link="left_hip_yaw_Link" />
    <axis
      xyz="0 0 -1" />
    <limit
      lower="0"
      upper="0"
      effort="0"
      velocity="0" />
  </joint>
  <link
    name="left_knee_Link">
    <inertial>
      <origin
        xyz="-0.00055538 -0.03133 -0.091968"
        rpy="0 0 0" />
      <mass
        value="1.5559" />
      <inertia
        ixx="0.0079262"
        ixy="-1.1425E-07"
        ixz="4.423E-08"
        iyy="0.0078413"
        iyz="-0.00059325"
        izz="0.0012684" />
    </inertial>
    <visual>
      <origin
        xyz="0 0 0"
        rpy="0 0 0" />
      <geometry>
        <mesh
          filename="package://humanoid_pkg/meshes/left_knee_Link.STL" />
      </geometry>
      <material
        name="">
        <color
          rgba="0.89804 0.91765 0.92941 1" />
      </material>
    </visual>
    <collision>
      <origin
        xyz="0 0 0"
        rpy="0 0 0" />
      <geometry>
        <mesh
          filename="package://humanoid_pkg/meshes/left_knee_Link.STL" />
      </geometry>
    </collision>
  </link>
  <joint
    name="left_knee_joint"
    type="revolute">
    <origin
      xyz="0.000417044567958422 0.0285000000000827 -0.133921159878857"
      rpy="0 0 0" />
    <parent
      link="left_hip_yaw_Link" />
    <child
      link="left_knee_Link" />
    <axis
      xyz="0 -1 0" />
    <limit
      lower="0"
      upper="0"
      effort="0"
      velocity="0" />
  </joint>
  <link
    name="left_ankle_upper_Link">
    <inertial>
      <origin
        xyz="-0.0096451 -0.0066648 -0.02296"
        rpy="0 0 0" />
      <mass
        value="0.23217" />
      <inertia
        ixx="0.00017223"
        ixy="5.4885E-08"
        ixz="5.9266E-08"
        iyy="0.00015222"
        iyz="1.0516E-05"
        izz="6.416E-05" />
    </inertial>
    <visual>
      <origin
        xyz="0 0 0"
        rpy="0 0 0" />
      <geometry>
        <mesh
          filename="package://humanoid_pkg/meshes/left_ankle_upper_Link.STL" />
      </geometry>
      <material
        name="">
        <color
          rgba="0.79216 0.81961 0.93333 1" />
      </material>
    </visual>
    <collision>
      <origin
        xyz="0 0 0"
        rpy="0 0 0" />
      <geometry>
        <mesh
          filename="package://humanoid_pkg/meshes/left_ankle_upper_Link.STL" />
      </geometry>
    </collision>
  </link>
  <joint
    name="left_ankle_upper_joint"
    type="fixed">
    <origin
      xyz="0.0293329554320634 -0.0285000038462455 -0.105378840121952"
      rpy="-0.0621699421431091 0 0" />
    <parent
      link="left_knee_Link" />
    <child
      link="left_ankle_upper_Link" />
    <axis
      xyz="0 -1 0" />
    <limit
      lower="0"
      upper="0"
      effort="0"
      velocity="0" />
  </joint>
  <link
    name="left_ankle_lower_Link">
    <inertial>
      <origin
        xyz="-0.011288 0.0073636 -0.012324"
        rpy="0 0 0" />
      <mass
        value="0.2189" />
      <inertia
        ixx="0.00010192"
        ixy="-1.1314E-07"
        ixz="-4.2104E-10"
        iyy="8.3162E-05"
        iyz="-4.9224E-07"
        izz="6.2671E-05" />
    </inertial>
    <visual>
      <origin
        xyz="0 0 0"
        rpy="0 0 0" />
      <geometry>
        <mesh
          filename="package://humanoid_pkg/meshes/left_ankle_lower_Link.STL" />
      </geometry>
      <material
        name="">
        <color
          rgba="0.79216 0.81961 0.93333 1" />
      </material>
    </visual>
    <collision>
      <origin
        xyz="0 0 0"
        rpy="0 0 0" />
      <geometry>
        <mesh
          filename="package://humanoid_pkg/meshes/left_ankle_lower_Link.STL" />
      </geometry>
    </collision>
  </link>
  <joint
    name="left_ankle_lower_joint"
    type="fixed">
    <origin
      xyz="0.0293329554320766 -0.0285000044432052 -0.169878840121147"
      rpy="-0.0621699421431091 0 0" />
    <parent
      link="left_knee_Link" />
    <child
      link="left_ankle_lower_Link" />
    <axis
      xyz="0 -1 0" />
    <limit
      lower="0"
      upper="0"
      effort="0"
      velocity="0" />
  </joint>
  <link
    name="left_foot_Link">
    <inertial>
      <origin
        xyz="0.0057978 3.2207E-09 -0.026004"
        rpy="0 0 0" />
      <mass
        value="0.98973" />
      <inertia
        ixx="0.00050114"
        ixy="2.6182E-11"
        ixz="8.7593E-05"
        iyy="0.002379"
        iyz="-2.4712E-06"
        izz="0.0027529" />
    </inertial>
    <visual>
      <origin
        xyz="0 0 0"
        rpy="0 0 0" />
      <geometry>
        <mesh
          filename="package://humanoid_pkg/meshes/left_foot_Link.STL" />
      </geometry>
      <material
        name="">
        <color
          rgba="0.89804 0.91765 0.92941 1" />
      </material>
    </visual>
    <collision>
      <origin
        xyz="0 0 0"
        rpy="0 0 0" />
      <geometry>
        <mesh
          filename="package://humanoid_pkg/meshes/left_foot_Link.STL" />
      </geometry>
    </collision>
  </link>
  <joint
    name="left_foot_joint"
    type="revolute">
    <origin
      xyz="0.0220829554320756 -0.02850000249788 -0.318878840121142"
      rpy="-0.0621699421431101 0 0" />
    <parent
      link="left_knee_Link" />
    <child
      link="left_foot_Link" />
    <axis
      xyz="0 0.998068071772485 0.0621298970573222" />
    <limit
      lower="0"
      upper="0"
      effort="0"
      velocity="0" />
  </joint>
</robot>
